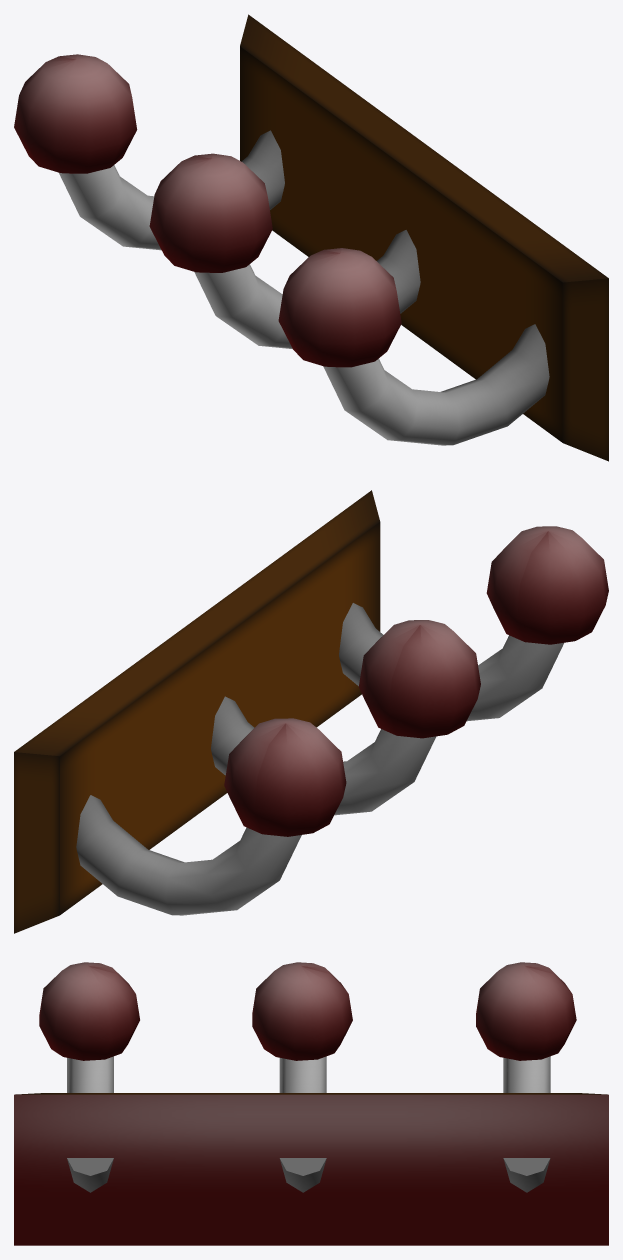
File: Rack Toilet.FBX
3 views of the same model, one above another, from view 1: azimuth 30°, elevation 25°; view 2: azimuth 150°, elevation 25°; view 3: azimuth 270°, elevation 25° (orthographic). The views are drawn at different scales.
Visible parts, largest first — view 1: Box001; view 2: Box001; view 3: Box001.
Part boxes in pixels (box(x1,y1,x2,y2)): Box001: box(14, 14, 608, 461); Box001: box(14, 490, 608, 933); Box001: box(14, 962, 608, 1245).
Bounding box in the file's own units: 11.37 × 8.34 × 23.76.
